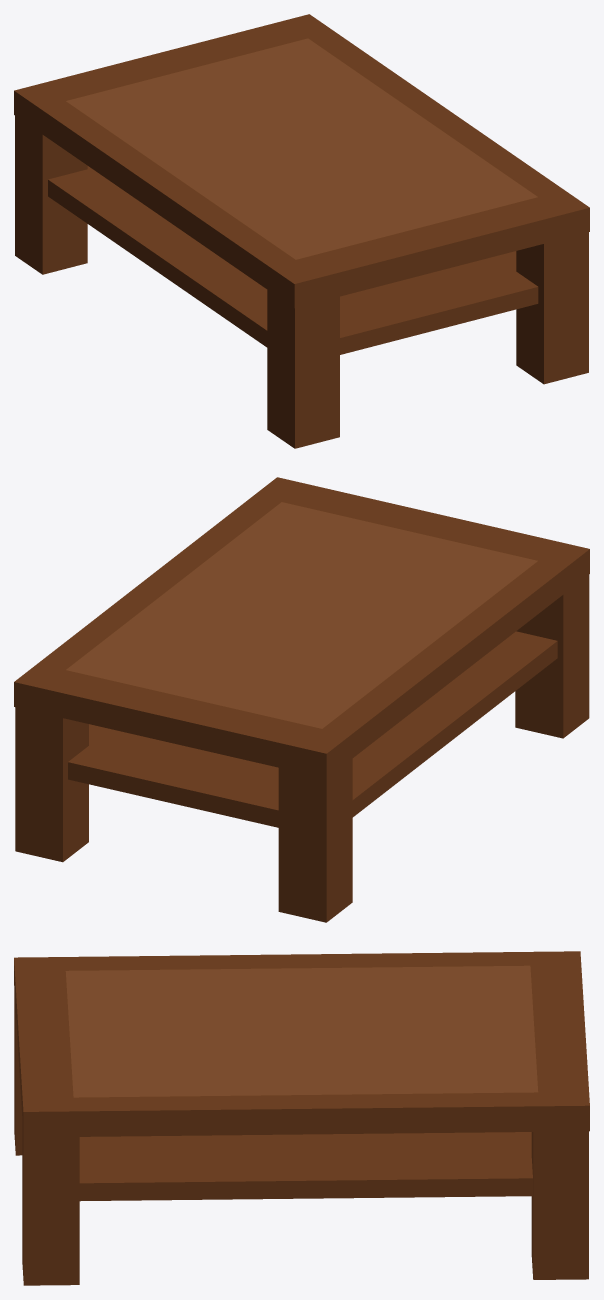
Rendered from CoffeTable.fbx.
3 renders of one model, top to bottom at view 1: azimuth 30°, elevation 25°; view 2: azimuth 150°, elevation 25°; view 3: azimuth 270°, elevation 25°, orthographic. The views are drawn at different scales.
Parts seen in each view (by area): view 1: Cube.8151; view 2: Cube.8151; view 3: Cube.8151.
Boxes of the visible parts, bbox=[...] form: Cube.8151: bbox=[14, 14, 589, 448]; Cube.8151: bbox=[14, 477, 589, 922]; Cube.8151: bbox=[14, 951, 589, 1285].
Bounding box in the file's own units: 132 × 66.49 × 199.
1 material, 1 textured.
